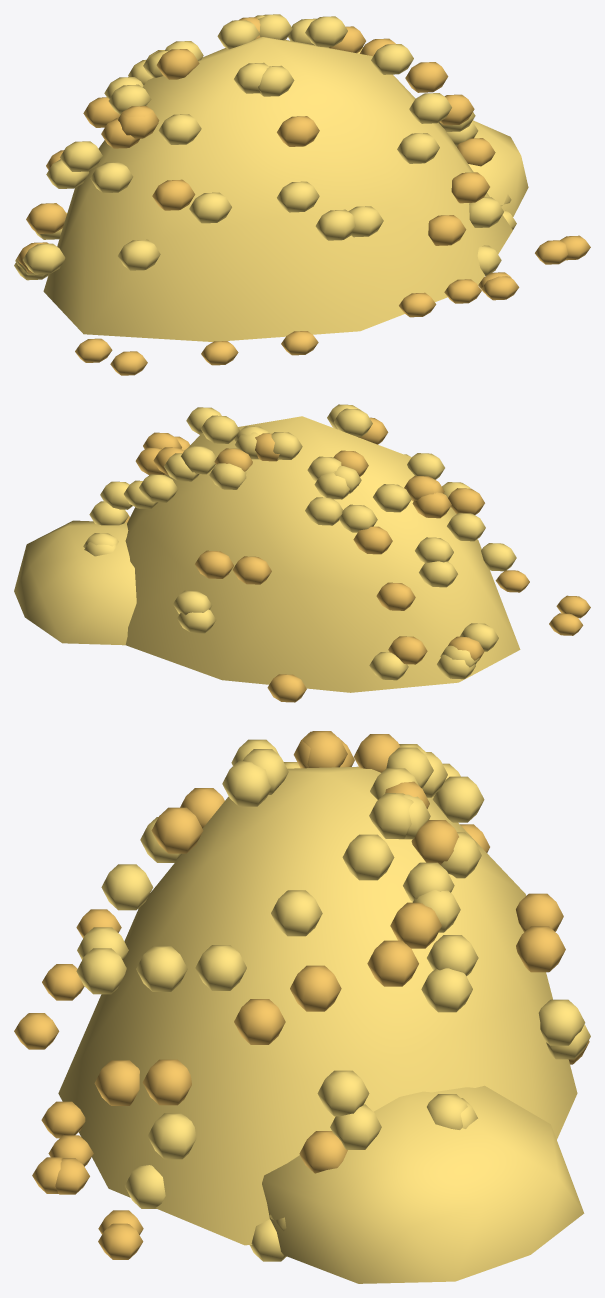
File: grain.glb
3 views of the same model, one above another, from view 1: azimuth 30°, elevation 25°; view 2: azimuth 150°, elevation 25°; view 3: azimuth 270°, elevation 25° (orthographic). The views are drawn at different scales.
Parts seen in each view (by area): view 1: grain; view 2: grain; view 3: grain.
Part boxes in pixels (x1,y1,x2,y2): grain: (14,14,590,375); grain: (14,404,590,702); grain: (14,731,590,1283).
Bounding box in the file's own units: 0.4219 × 0.185 × 0.2845.
